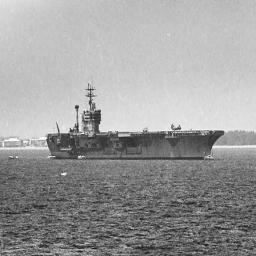Portanaves: (45, 78, 227, 162)
